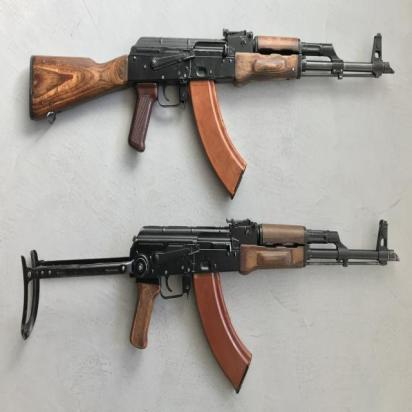Gun: (22, 220, 399, 389), (26, 31, 394, 184)
